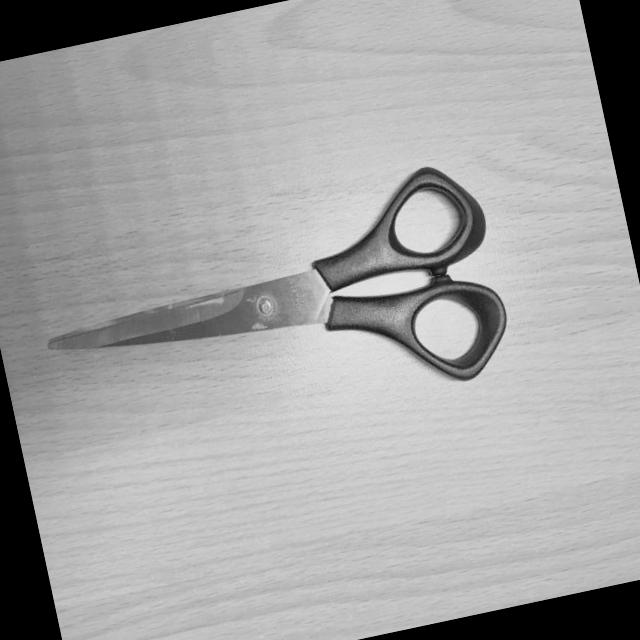scissors: (18, 150, 522, 472)
